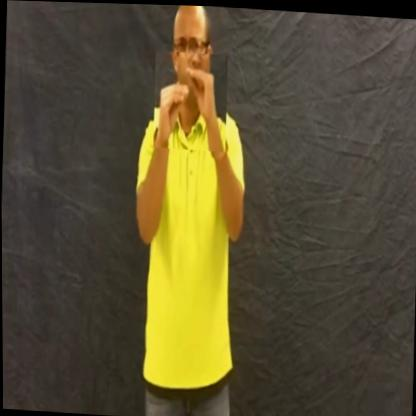Fix: (153, 50, 229, 151)
